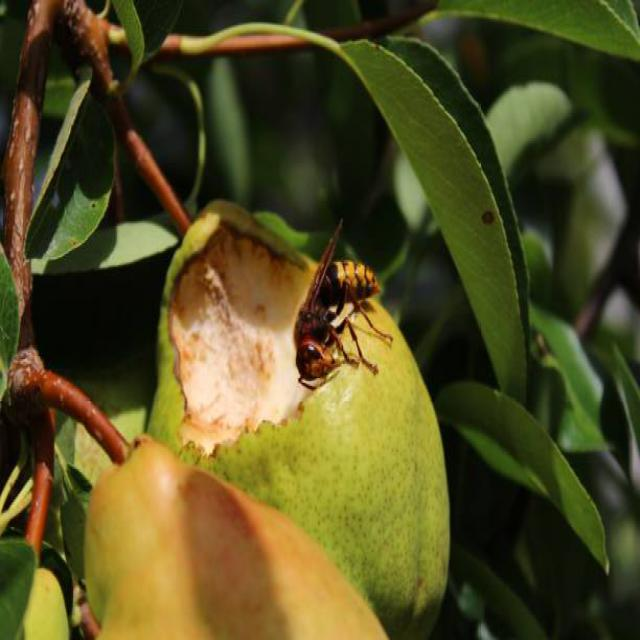Vespa Crabro: (287, 216, 408, 418)
